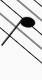note: (2, 2, 38, 50)
